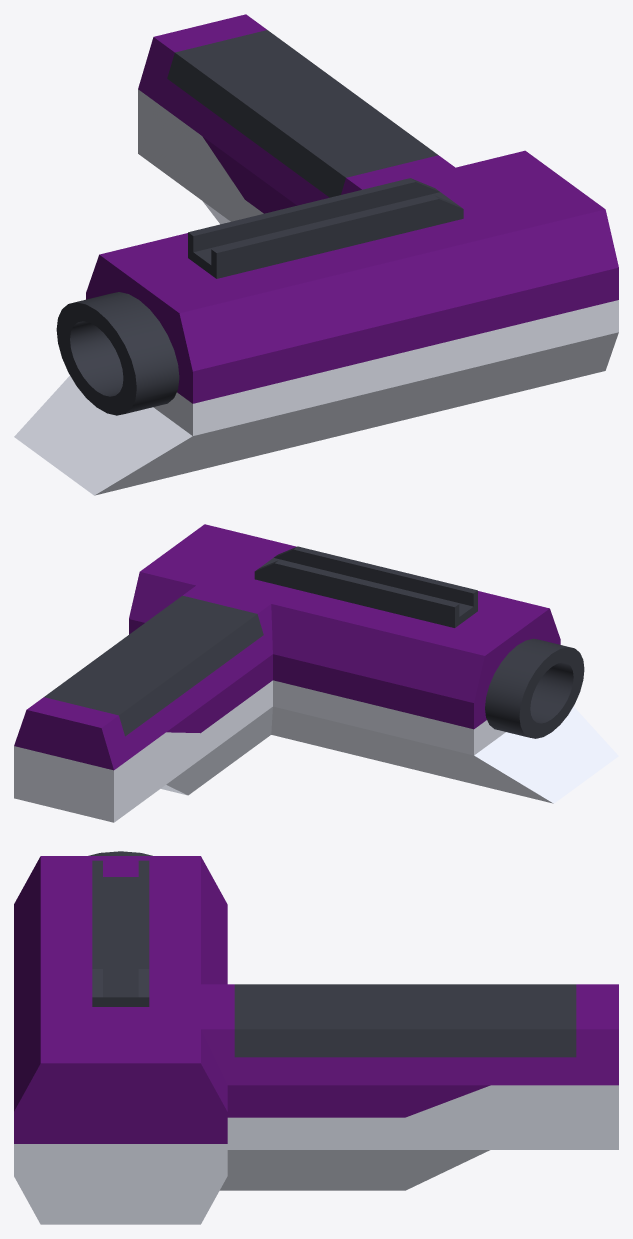
The model's file is Module1x2.fbx.
3 renders of one model, top to bottom at view 1: azimuth 30°, elevation 25°; view 2: azimuth 150°, elevation 25°; view 3: azimuth 270°, elevation 25°, orthographic. The views are drawn at different scales.
Parts seen in each view (by area): view 1: mergedBlocks; view 2: mergedBlocks; view 3: mergedBlocks.
Part boxes in pixels (left/top/right/bottom): mergedBlocks: left=14, top=14, right=618, bottom=495; mergedBlocks: left=14, top=524, right=618, bottom=822; mergedBlocks: left=14, top=851, right=618, bottom=1224.
Size of the model in its own units: 16.56 by 5.8 by 17.
